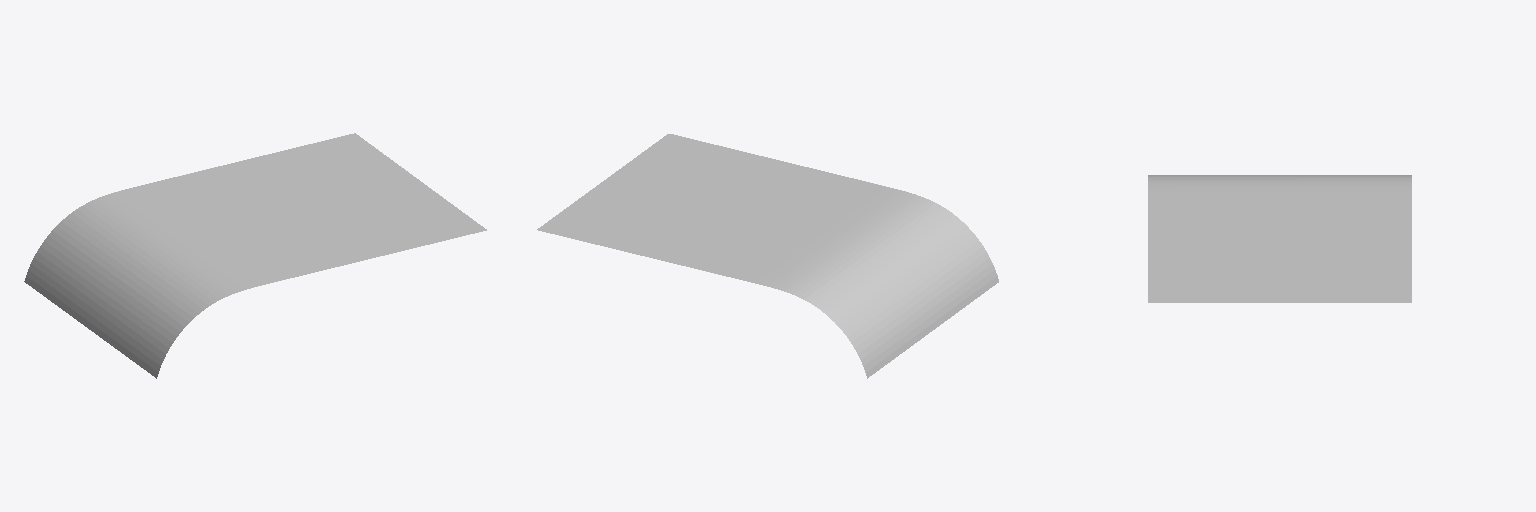
The model's file is CurvePaper_000059.obj.
3 renders of one model, left to right at view 1: azimuth 30°, elevation 25°; view 2: azimuth 150°, elevation 25°; view 3: azimuth 270°, elevation 25°, orthographic.
Visible parts, largest first — view 1: Plane; view 2: Plane; view 3: Plane.
Part boxes in pixels (x1,y1,x2,y2): Plane: (24, 133, 486, 378); Plane: (537, 134, 998, 378); Plane: (1148, 175, 1411, 302).
Bounding box in the file's own units: 3.26 × 0.6417 × 2.26.